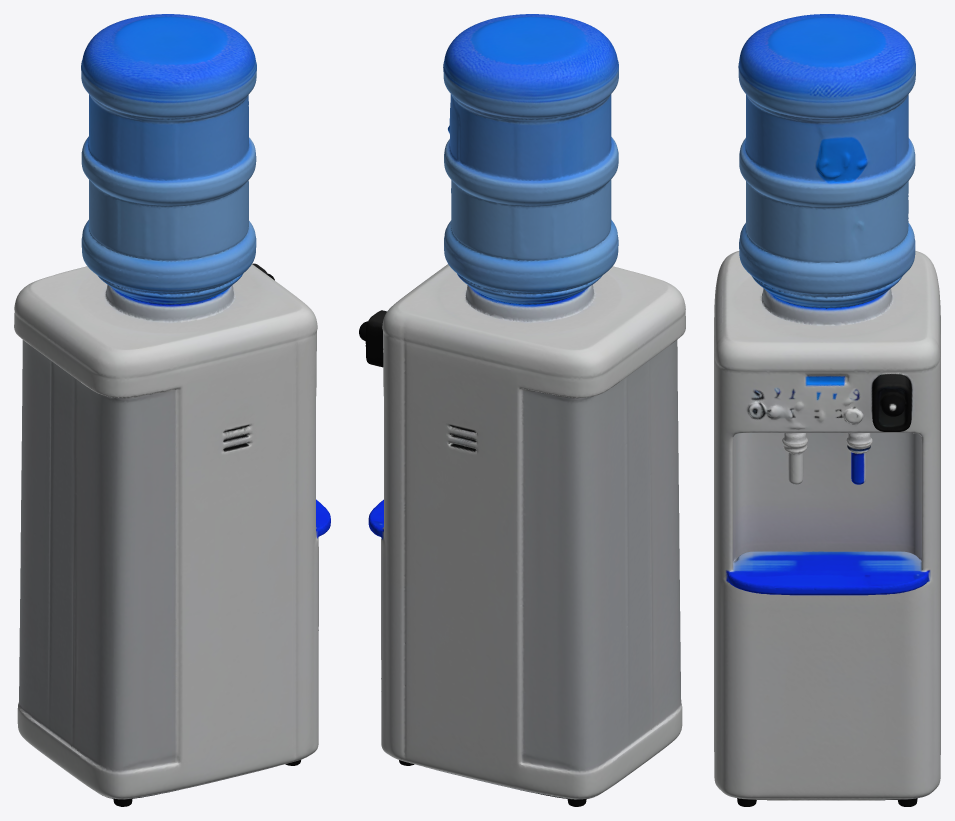
The model's file is water_cooler.glb.
The picture shows the model from 3 angles, left to right: view 1: azimuth 30°, elevation 25°; view 2: azimuth 150°, elevation 25°; view 3: azimuth 270°, elevation 25°; orthographic projection.
Visible parts, largest first — view 1: tripo_node_11d09044-b120-48a2-a918-0f711d210fd9; view 2: tripo_node_11d09044-b120-48a2-a918-0f711d210fd9; view 3: tripo_node_11d09044-b120-48a2-a918-0f711d210fd9.
Part boxes in pixels (box(x1,y1,x2,y2)): tripo_node_11d09044-b120-48a2-a918-0f711d210fd9: box(14, 14, 330, 806); tripo_node_11d09044-b120-48a2-a918-0f711d210fd9: box(359, 14, 685, 806); tripo_node_11d09044-b120-48a2-a918-0f711d210fd9: box(714, 14, 940, 806).
Bounding box in the file's own units: 0.3687 × 1 × 0.2844.
Materials: 1 (1 with a texture image).
